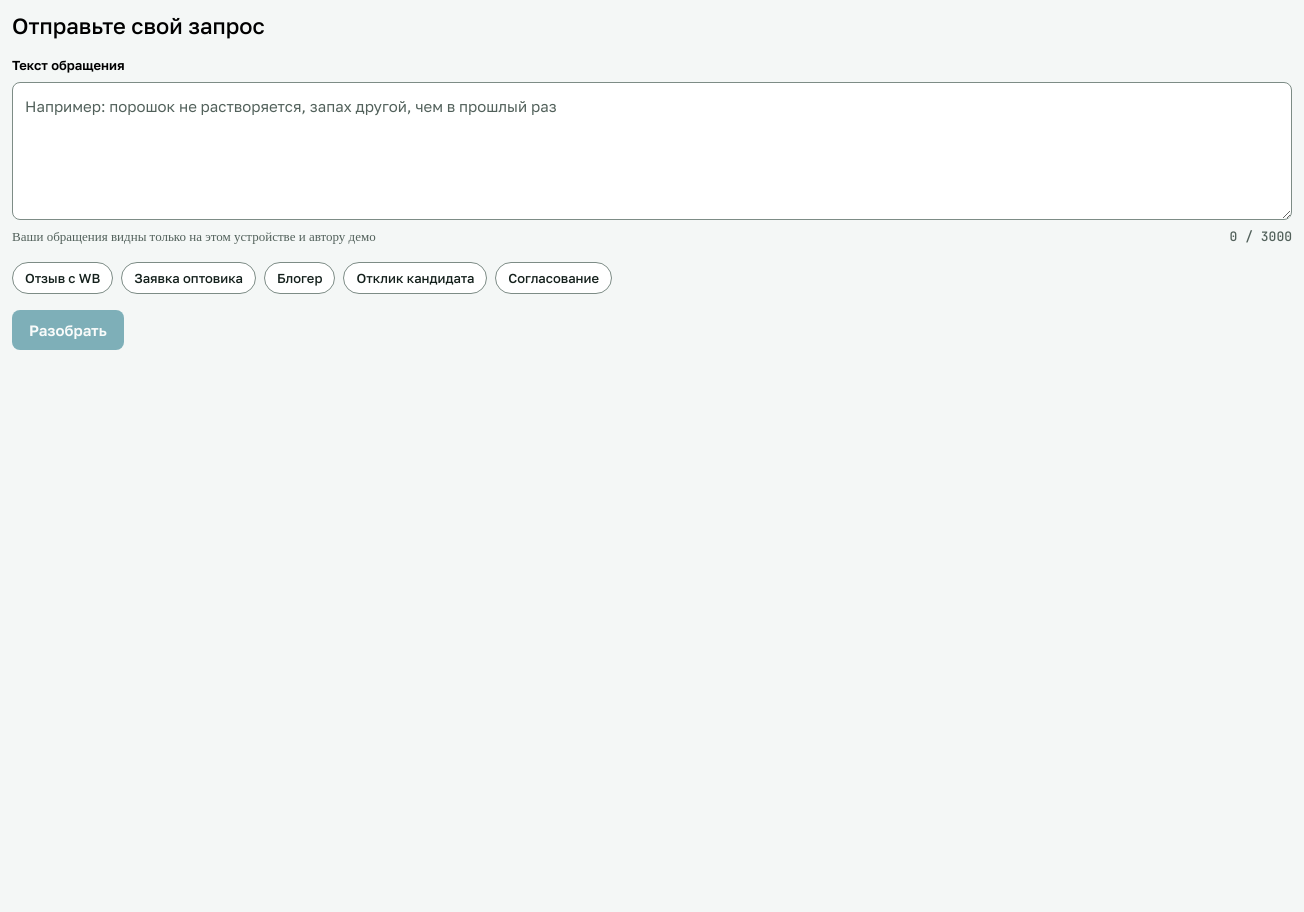
Test case: Triage › пока идёт разбор, кнопка занята и повторный клик ничего не шлёт
Replace the text in the text box labelled "Текст обращения" with "Подскажите, чем отстирать вино со скатерти" at coordinates (652, 151), box [12, 82, 1292, 220]
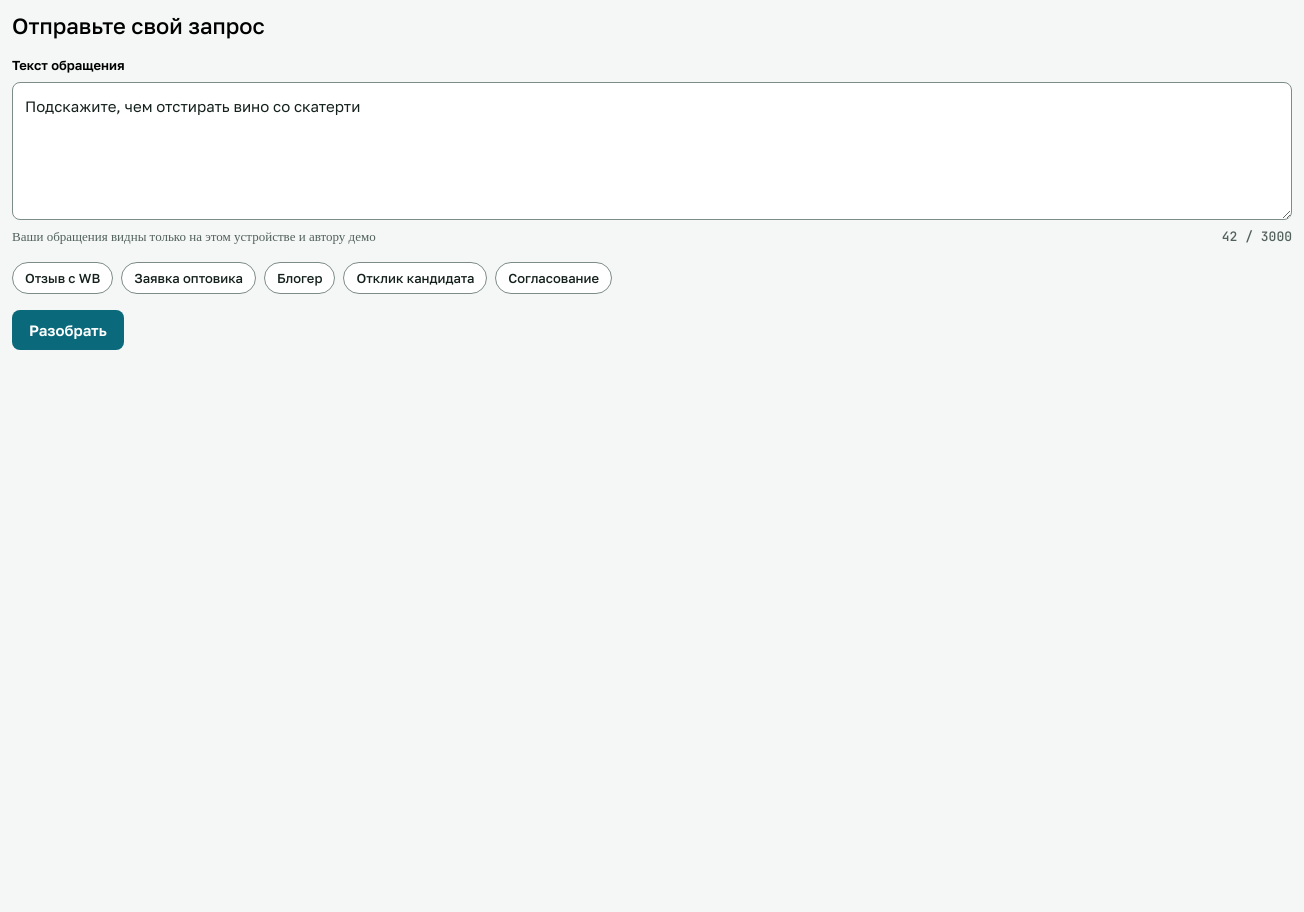
Click the button "Разобрать".
click(68, 330)  # box [12, 310, 124, 350]
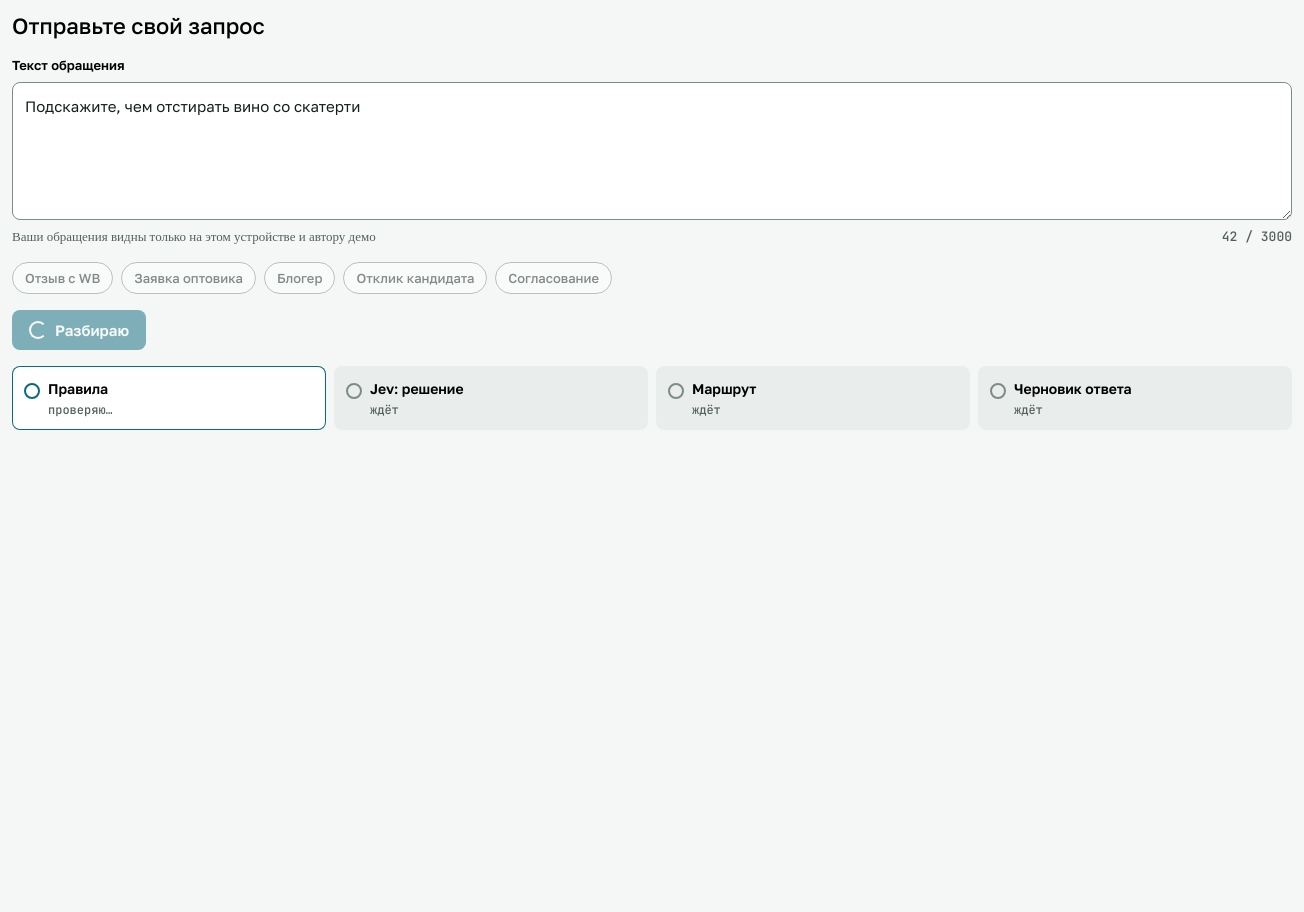
Expected: the button named "Разобрать" has attribute aria-busy="true"
Click the button named "Разобрать".
click(79, 330)  # box [12, 310, 146, 350]
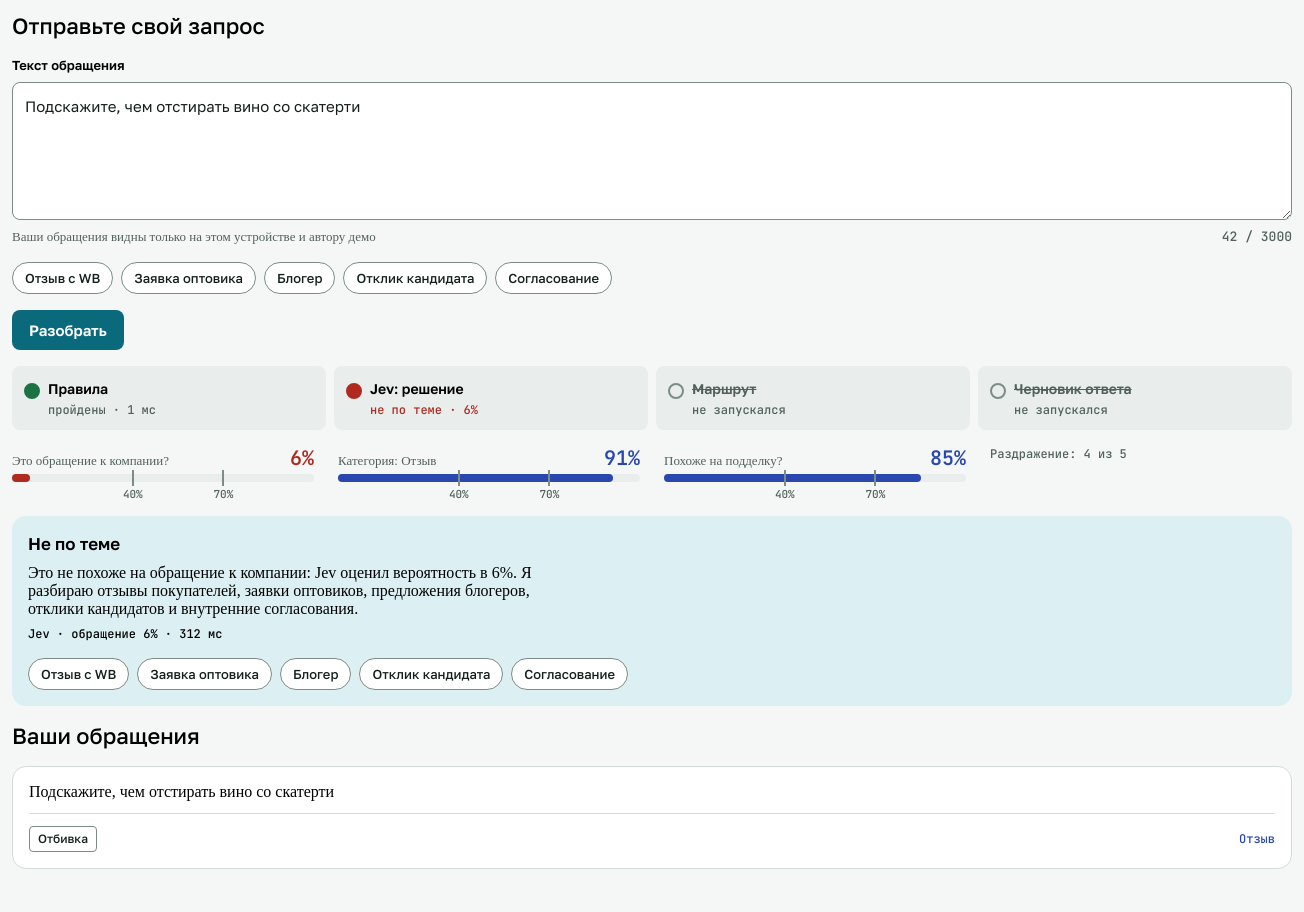
Expected: the text "Jev оценил вероятность в 6%" is shown, [28, 564, 532, 617]
